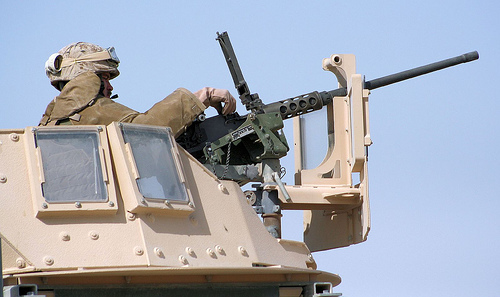rifle: (236, 46, 483, 162)
rifle in hand: (129, 39, 490, 194)
